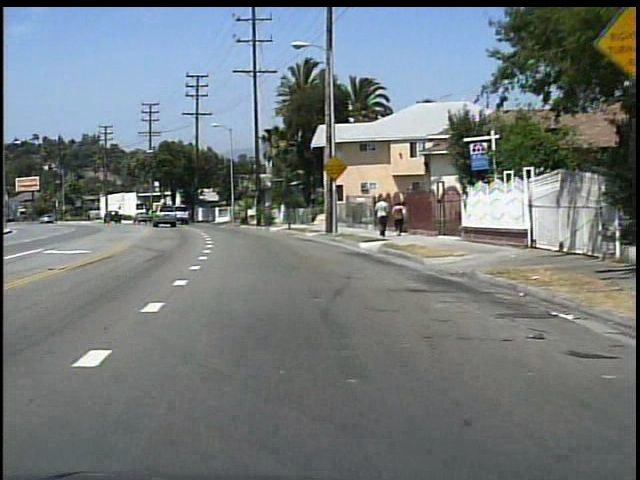person: (369, 193, 388, 238), (388, 199, 407, 235)
